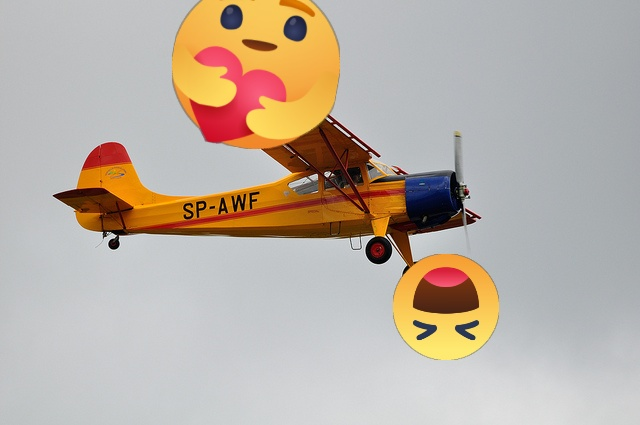care: (172, 0, 340, 149)
haha: (393, 254, 499, 360)
